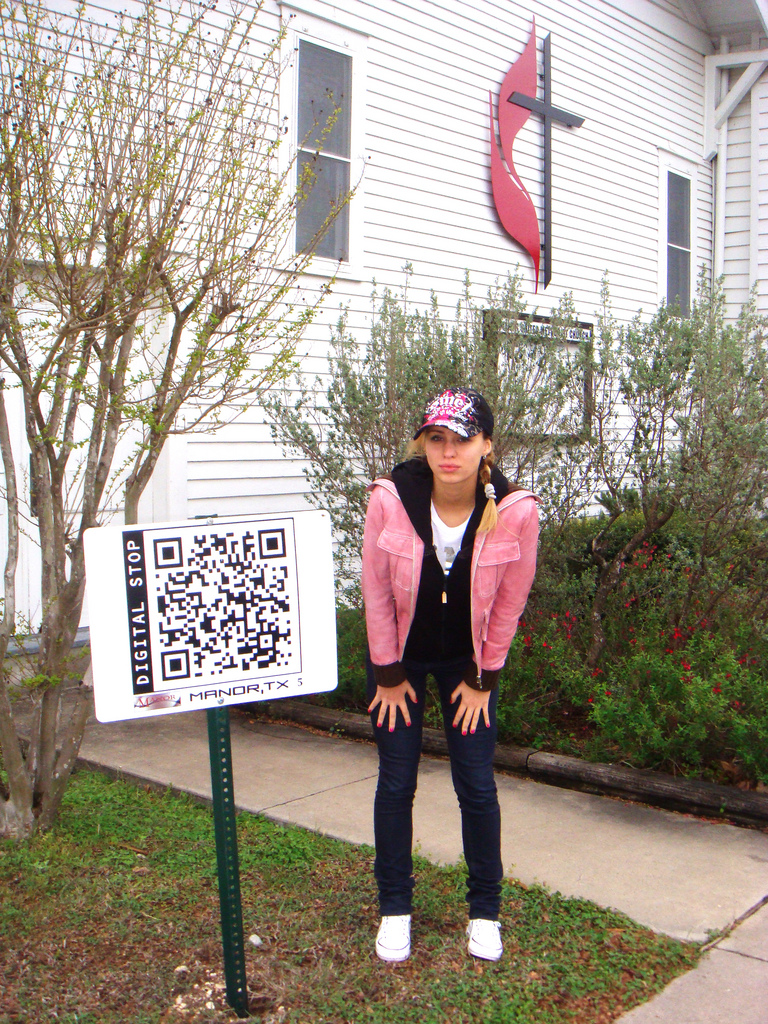QR-CODE: (153, 528, 291, 680)
